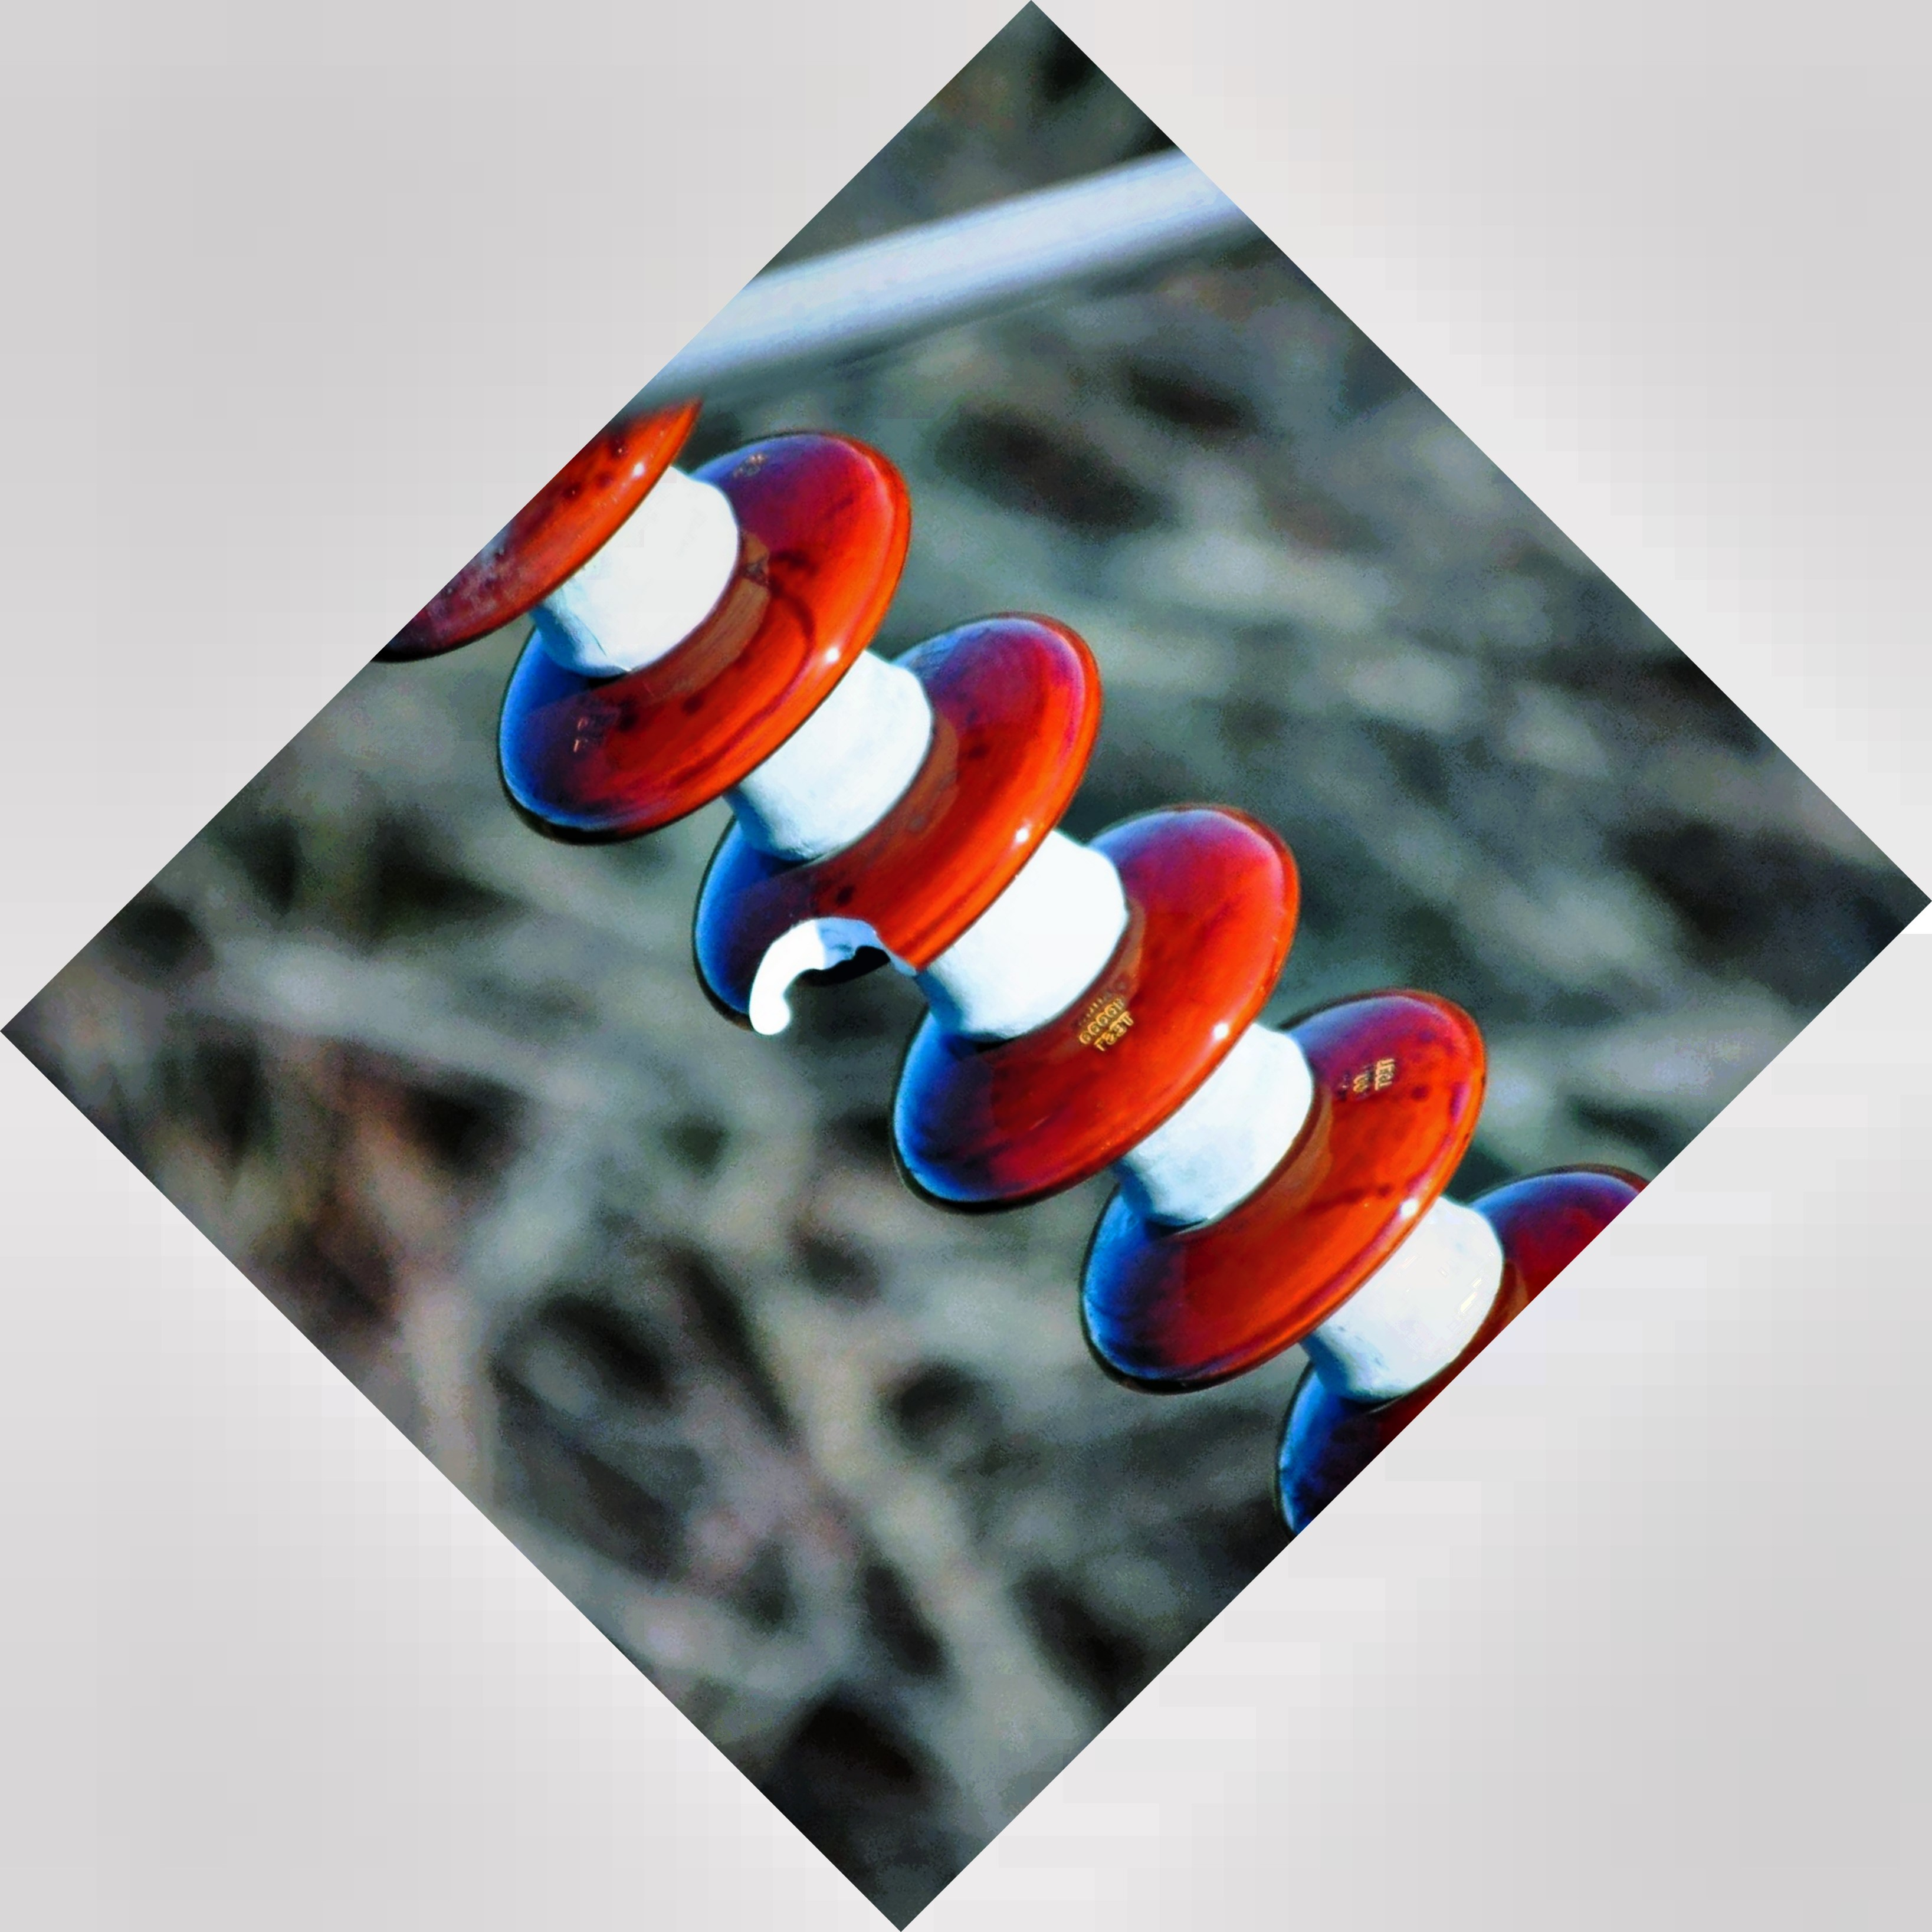insulator breakage: (685, 596, 1115, 1067)
